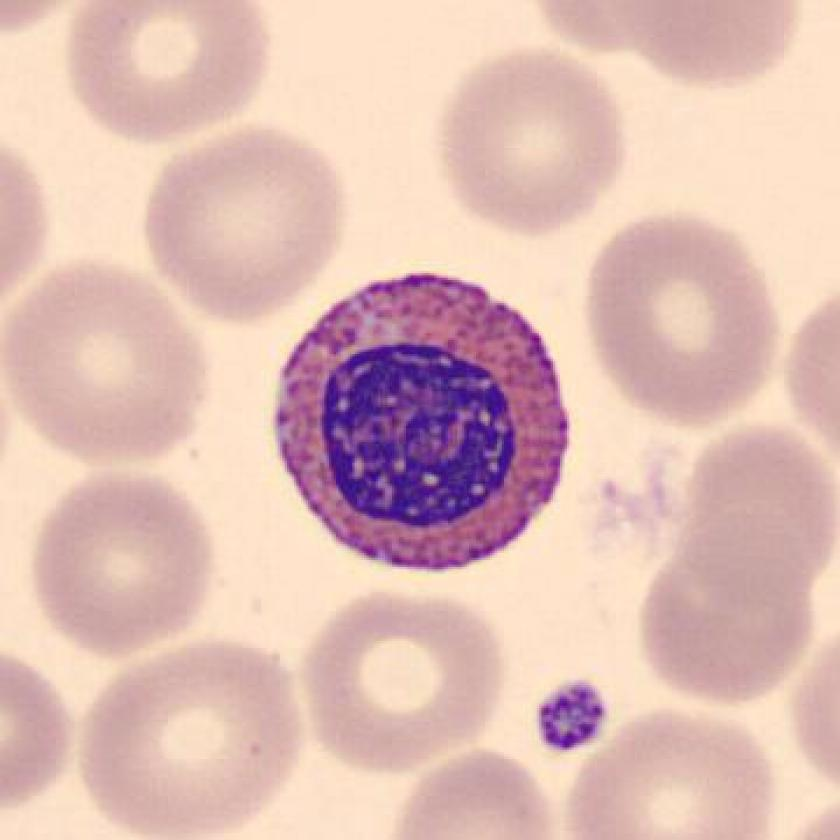eosinophil: (262, 258, 580, 582)
